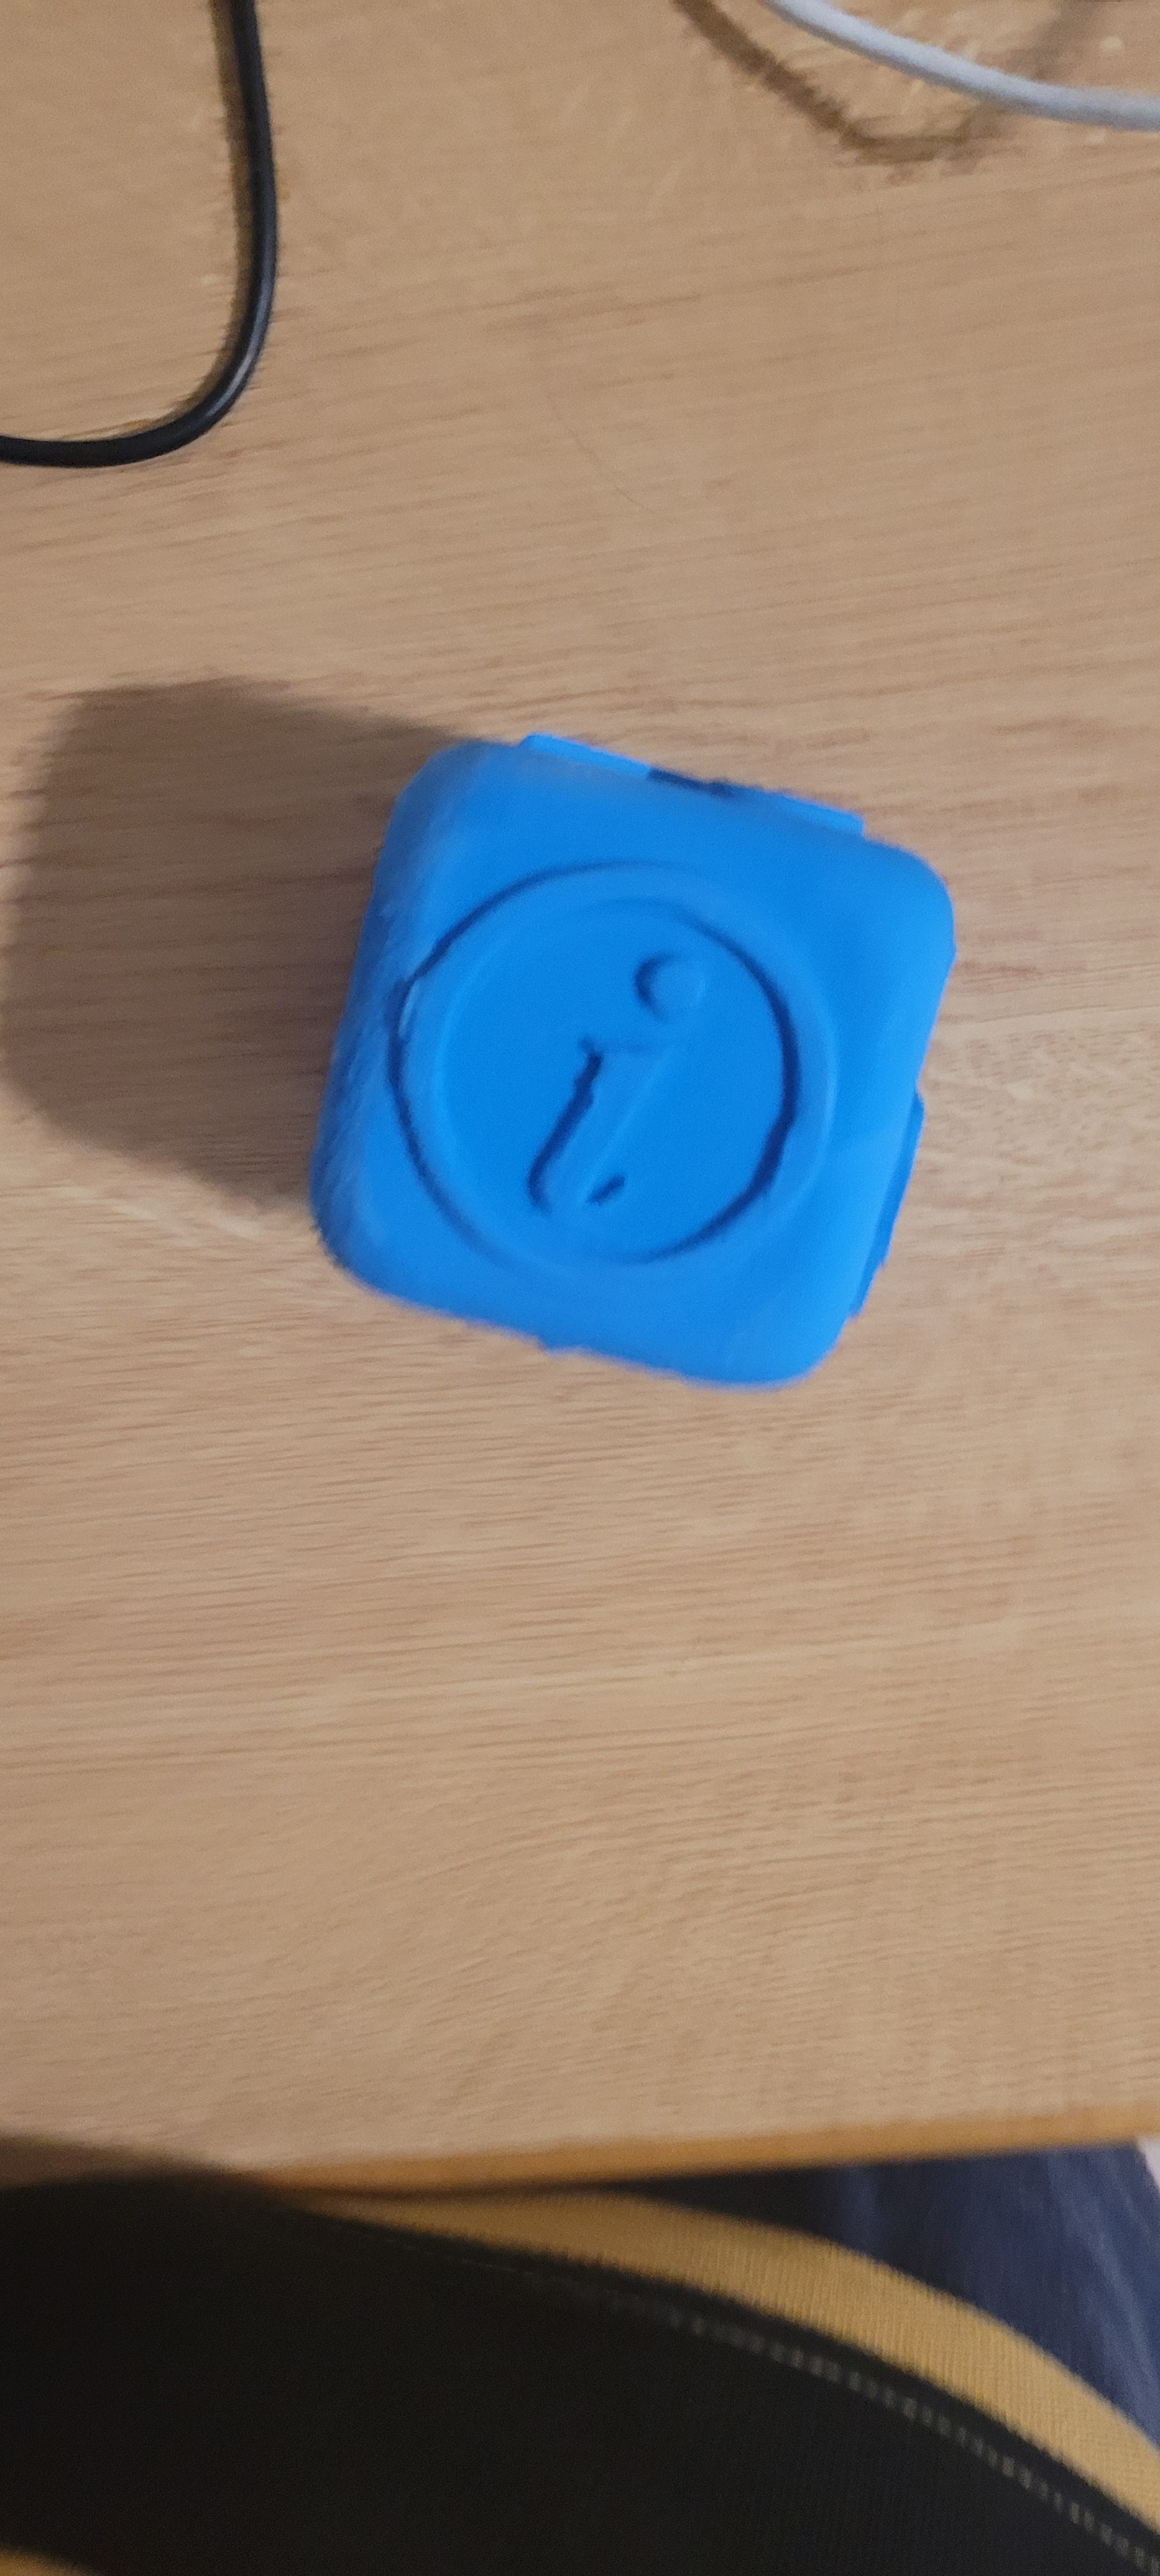Info: (343, 864, 894, 1311)
